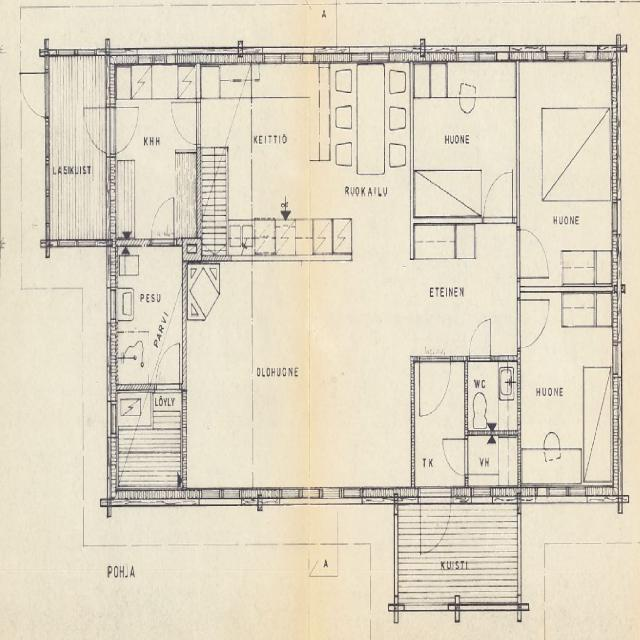door: (420, 486, 450, 554), (420, 354, 450, 414), (106, 108, 144, 154), (79, 108, 116, 154), (483, 168, 512, 224), (516, 300, 548, 348), (516, 230, 548, 278), (19, 72, 49, 117), (172, 102, 200, 144), (156, 343, 180, 390), (152, 201, 174, 245), (443, 438, 468, 474), (470, 319, 490, 362)
